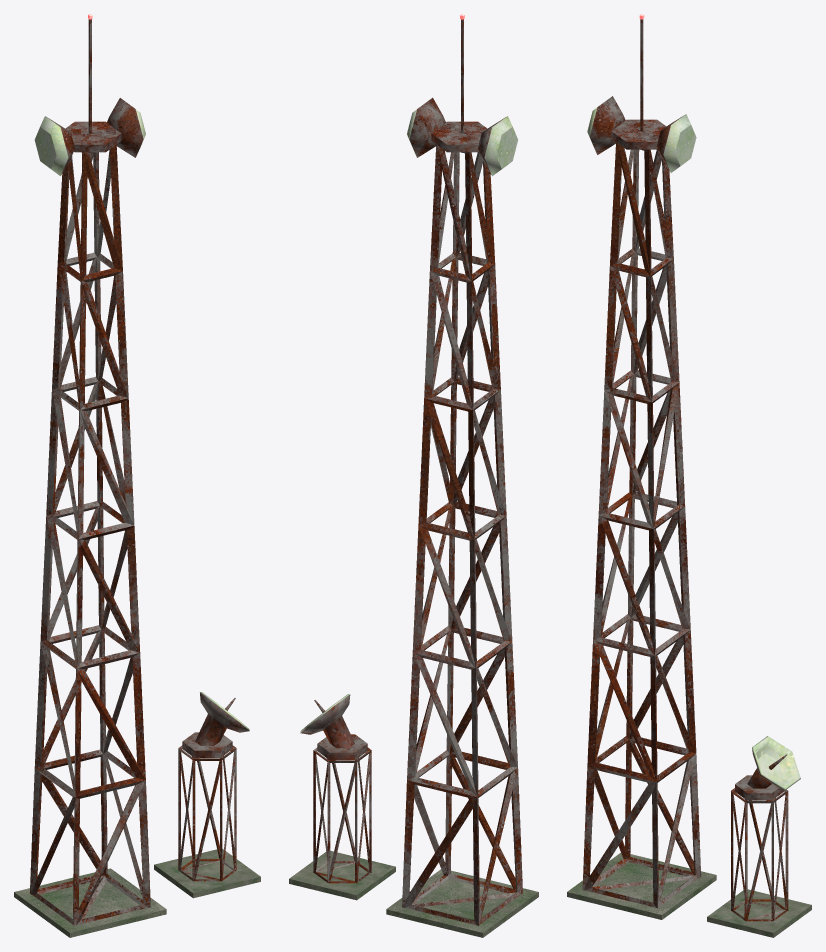
Rendered from bul2.glb.
3 views of the same model, side by side, from view 1: azimuth 30°, elevation 25°; view 2: azimuth 150°, elevation 25°; view 3: azimuth 330°, elevation 25° (orthographic).
Visible parts, largest first — view 1: Radio_Tower, Anomaly_Scanner, Antenna; view 2: Radio_Tower, Anomaly_Scanner, Antenna; view 3: Radio_Tower, Anomaly_Scanner, Antenna.
Part boxes in pixels (bbox=[...]): Radio_Tower: bbox=[14, 14, 166, 937]; Anomaly_Scanner: bbox=[154, 745, 260, 898]; Antenna: bbox=[182, 692, 249, 758]; Radio_Tower: bbox=[386, 14, 538, 937]; Anomaly_Scanner: bbox=[289, 747, 395, 900]; Antenna: bbox=[300, 694, 367, 760]; Radio_Tower: bbox=[567, 14, 716, 919]; Anomaly_Scanner: bbox=[707, 788, 811, 937]; Antenna: bbox=[735, 736, 800, 800].
Bounding box in the file's own units: 16.63 × 70.38 × 8.
Materials: 4 (3 with a texture image).
